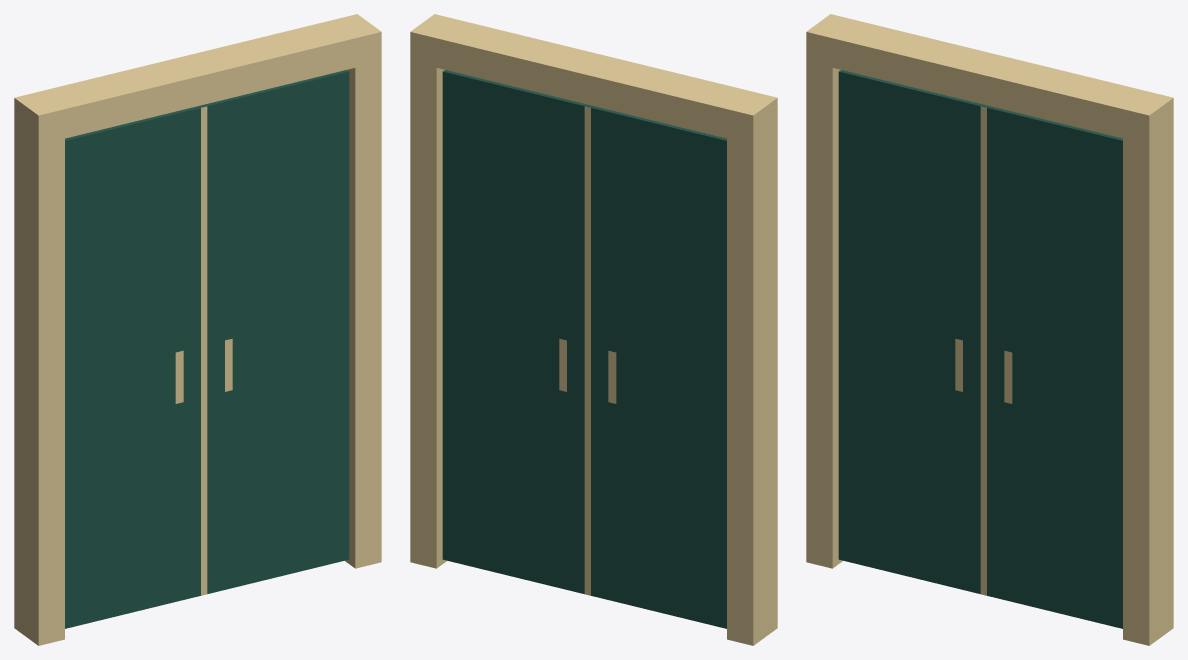
The model's file is entrance-portal-optimized-2026-11-04.glb.
3 renders of one model, left to right at view 1: azimuth 30°, elevation 25°; view 2: azimuth 150°, elevation 25°; view 3: azimuth 330°, elevation 25°, orthographic.
Visible parts, largest first — view 1: portal-door, portal-trim; view 2: portal-door, portal-trim; view 3: portal-door, portal-trim.
Part boxes in pixels (x1=…): portal-door: x1=65, y1=70, x2=349, y2=628; portal-trim: x1=14, y1=14, x2=381, y2=645; portal-door: x1=442, y1=70, x2=726, y2=628; portal-trim: x1=410, y1=14, x2=777, y2=645; portal-door: x1=838, y1=70, x2=1122, y2=628; portal-trim: x1=806, y1=14, x2=1173, y2=645.
Bounding box in the file's own units: 1.95 × 2.88 × 0.24.
